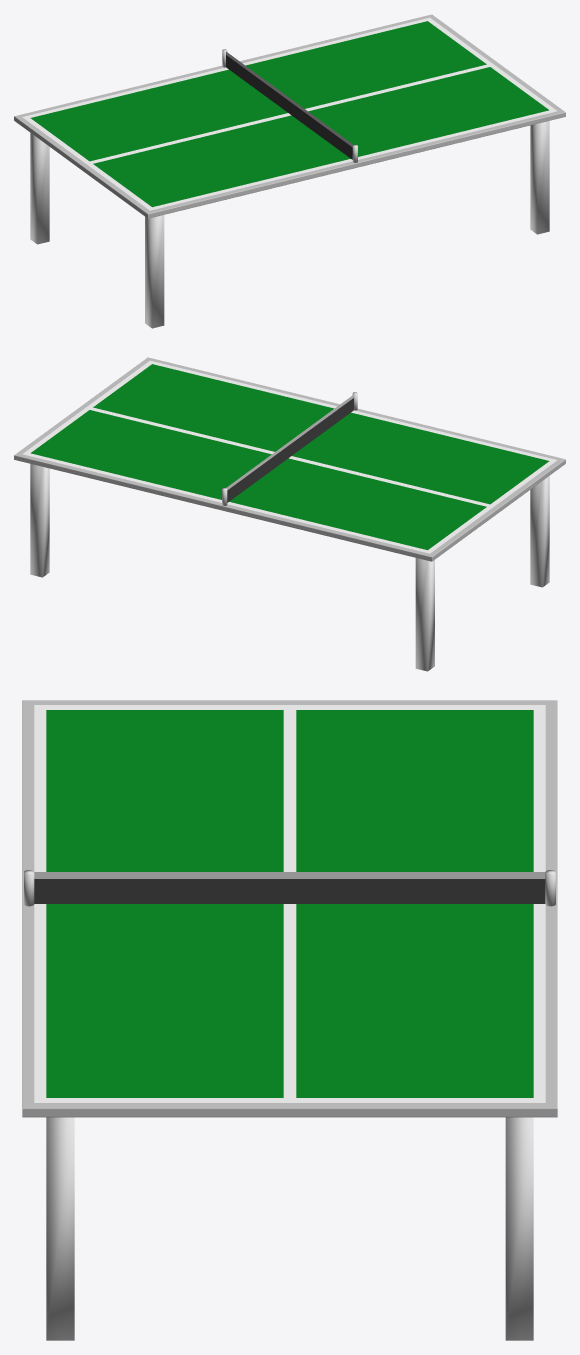
The model's file is tennis_table.fbx.
3 renders of one model, top to bottom at view 1: azimuth 30°, elevation 25°; view 2: azimuth 150°, elevation 25°; view 3: azimuth 270°, elevation 25°, orthographic. The views are drawn at different scales.
Visible parts, largest first — view 1: Box001, Box005, Cylinder001; view 2: Box001, Box005, Cylinder001; view 3: Box001, Cylinder001, Box005.
Part boxes in pixels (box(x1,y1,x2,y2)): Box001: box(14, 14, 565, 218); Box005: box(30, 121, 549, 328); Cylinder001: box(222, 49, 357, 162); Box001: box(14, 357, 565, 561); Box005: box(30, 464, 549, 671); Cylinder001: box(222, 392, 357, 505); Box001: box(22, 700, 557, 1117); Cylinder001: box(24, 870, 555, 906); Box005: box(46, 1117, 533, 1340).
Bounding box in the file's own units: 274 × 85.99 × 152.
